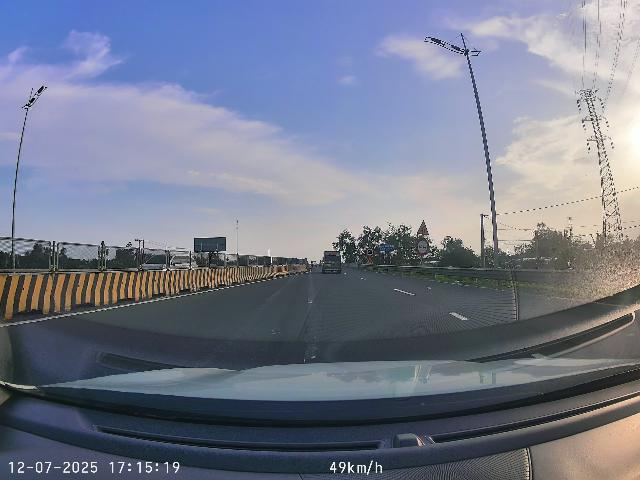125-cam-vuot: (416, 238, 429, 255)
